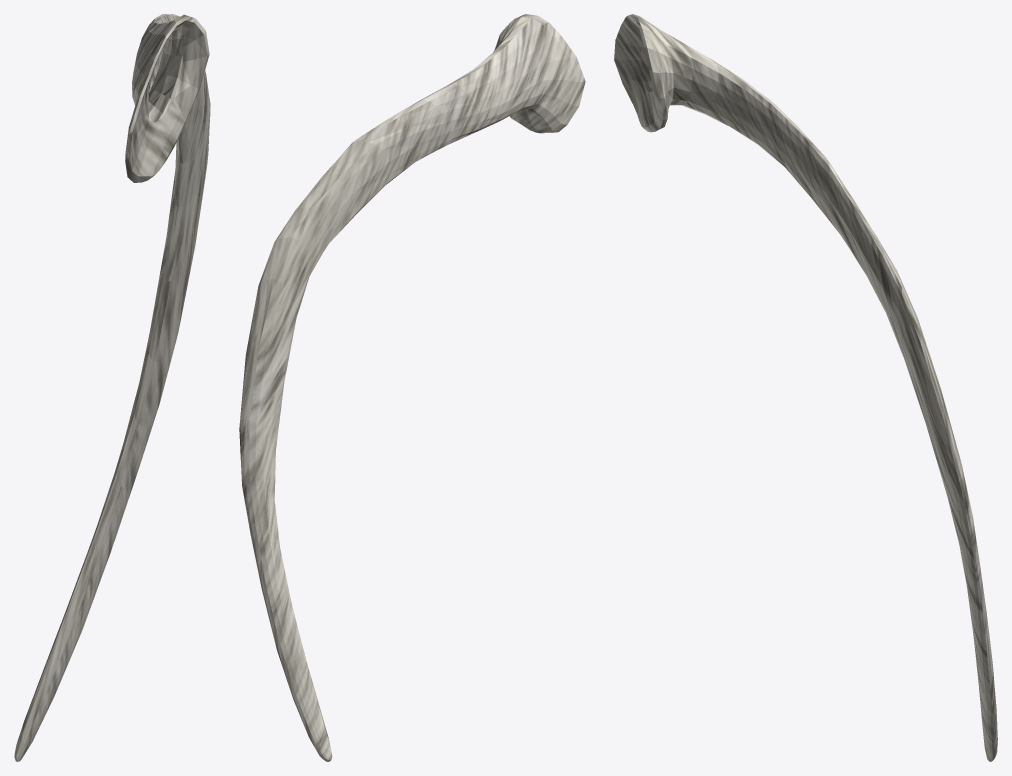
Rendered from mhw_elvs_cat_tail_as_clothes_1.glb.
3 renders of one model, left to right at view 1: azimuth 30°, elevation 25°; view 2: azimuth 150°, elevation 25°; view 3: azimuth 270°, elevation 25°, orthographic. The views are drawn at different scales.
Visible parts, largest first — view 1: mhw_elvs_cat_tail_as_clothes_1; view 2: mhw_elvs_cat_tail_as_clothes_1; view 3: mhw_elvs_cat_tail_as_clothes_1.
Part boxes in pixels (x1=…): mhw_elvs_cat_tail_as_clothes_1: x1=14, y1=14, x2=210, y2=761; mhw_elvs_cat_tail_as_clothes_1: x1=239, y1=14, x2=585, y2=761; mhw_elvs_cat_tail_as_clothes_1: x1=614, y1=14, x2=997, y2=761.
Bounding box in the file's own units: 0.2877 × 0.9123 × 0.44.
Materials: 1 (1 with a texture image).
